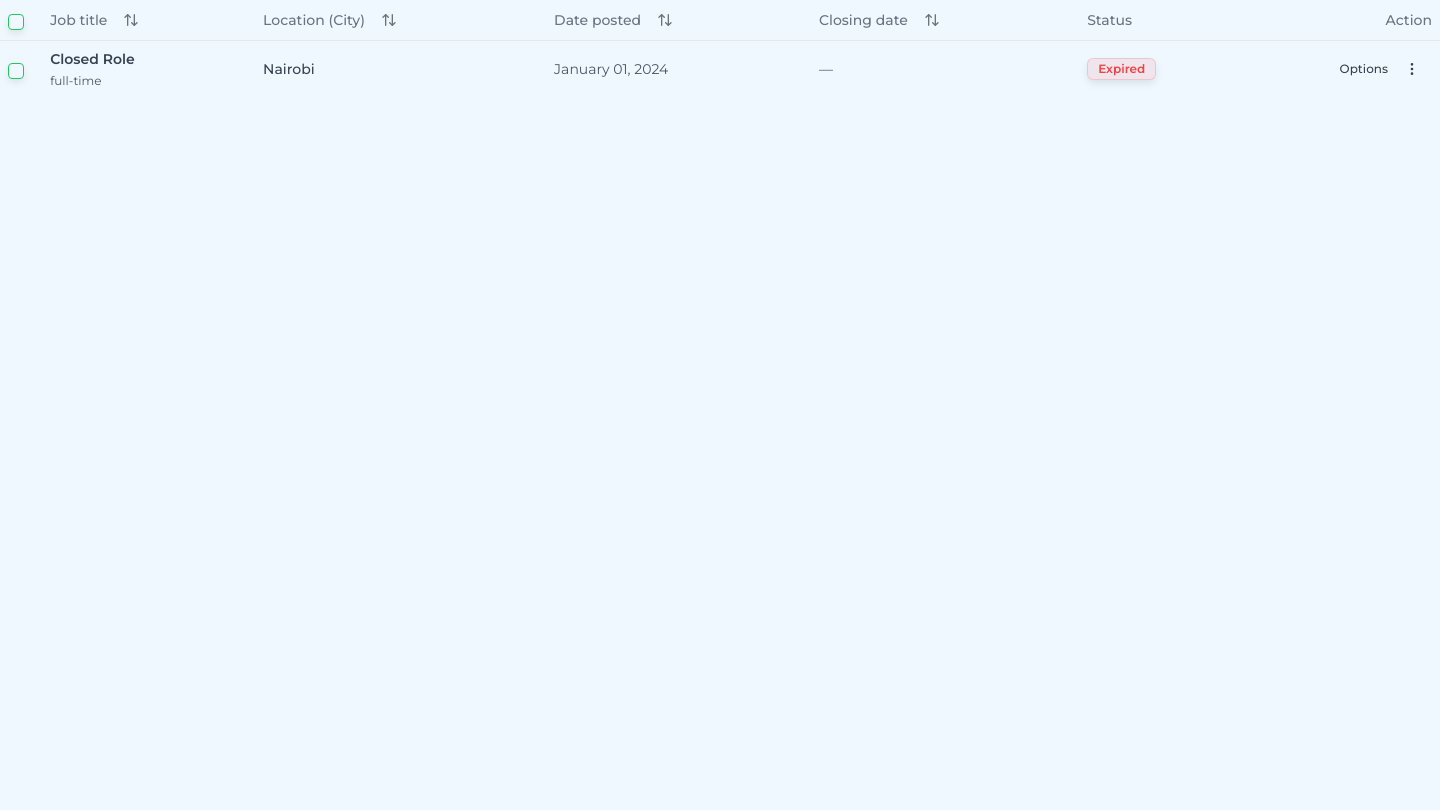
Test: JobListingTable reopen action › does not reopen when the deadline dialog is cancelled
Click the button "Options" at coordinates (1380, 68), box [1328, 52, 1432, 84]
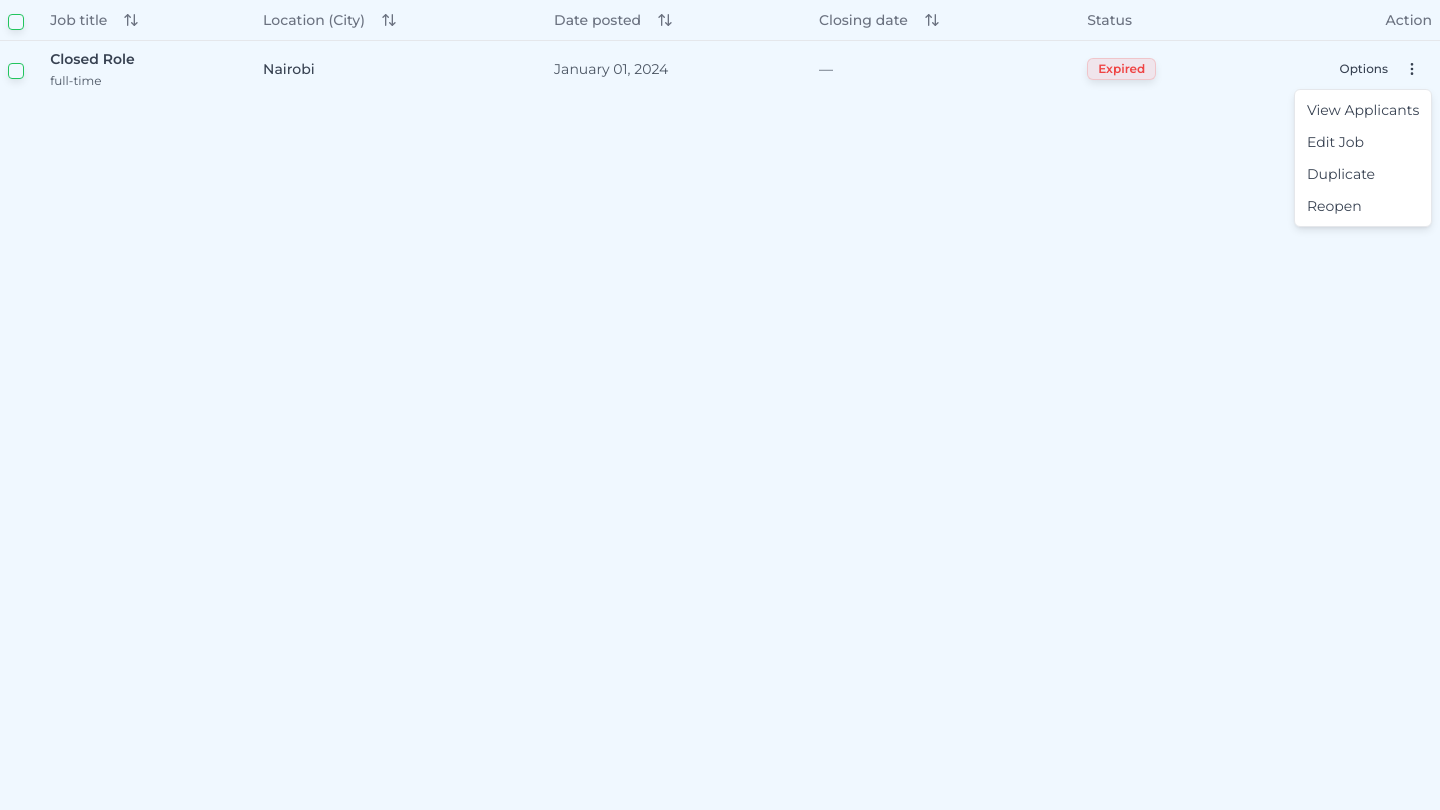
Click the menu item "Reopen" at coordinates (1334, 206), box [1307, 197, 1362, 215]
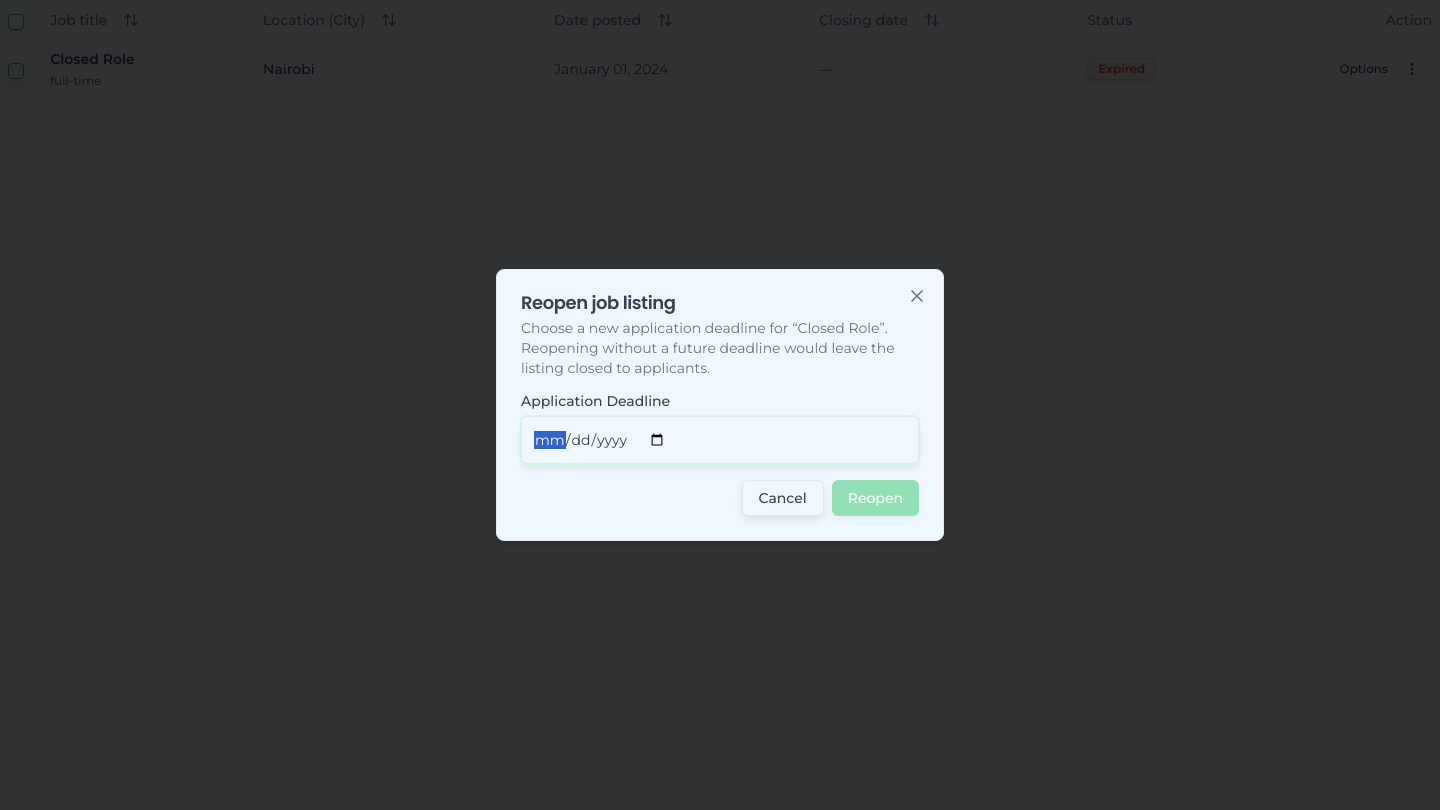
Click the button "Cancel" at coordinates (783, 498), box [742, 480, 824, 516]
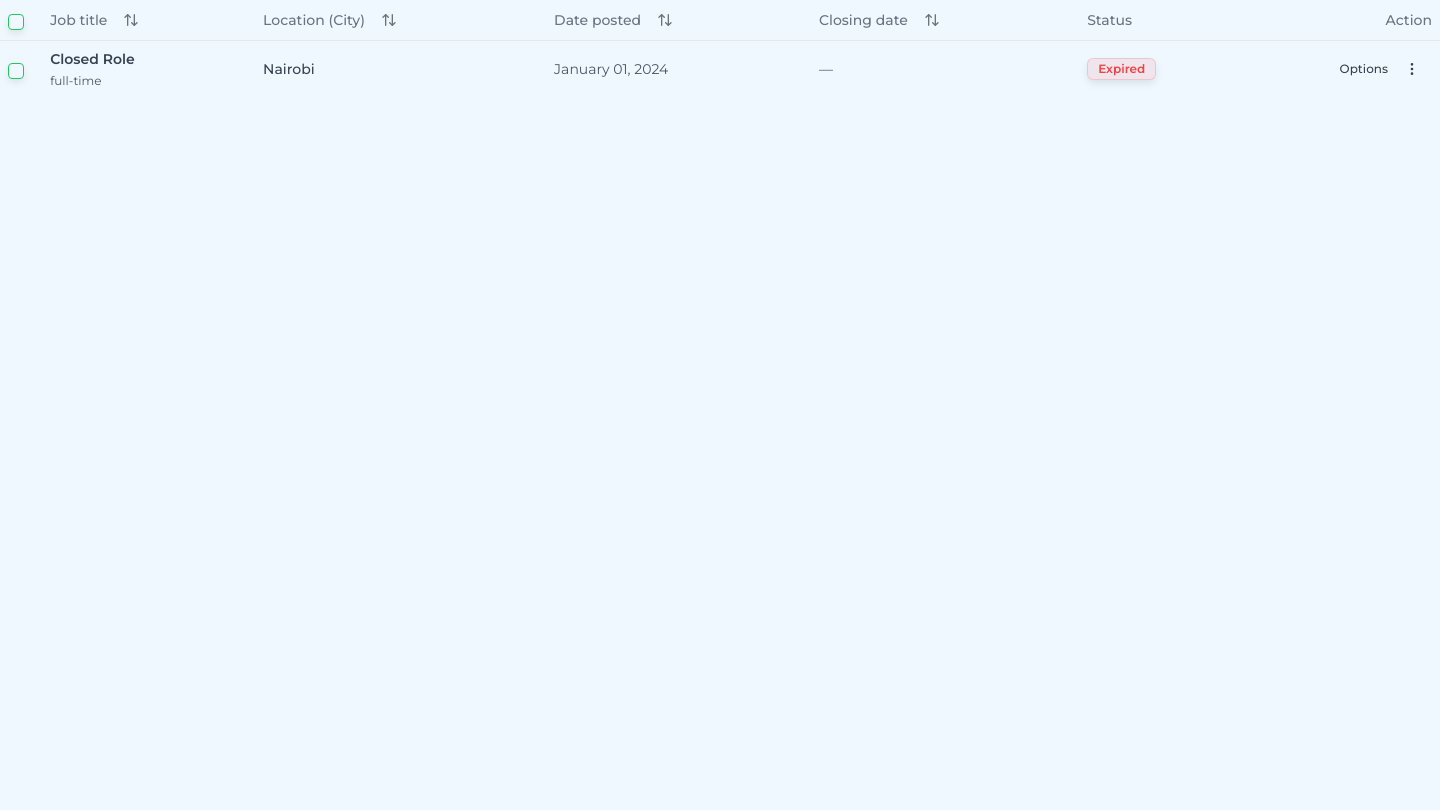
Now the heading "Reopen job listing" is gone
